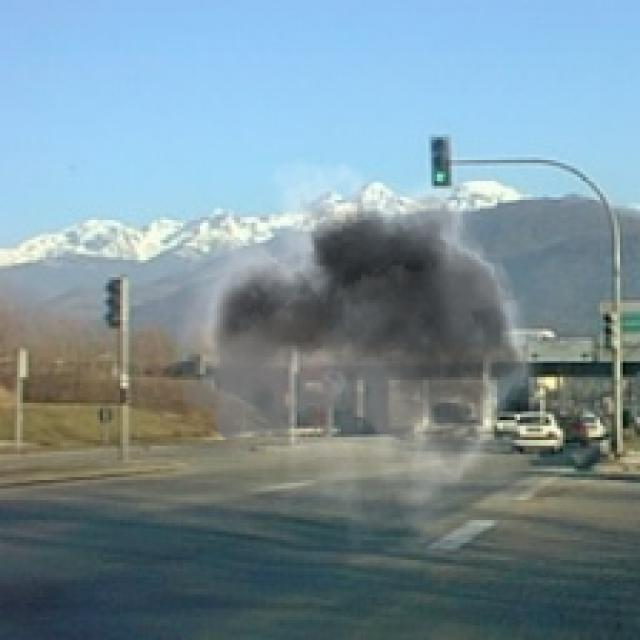smoke: (177, 140, 557, 551)
